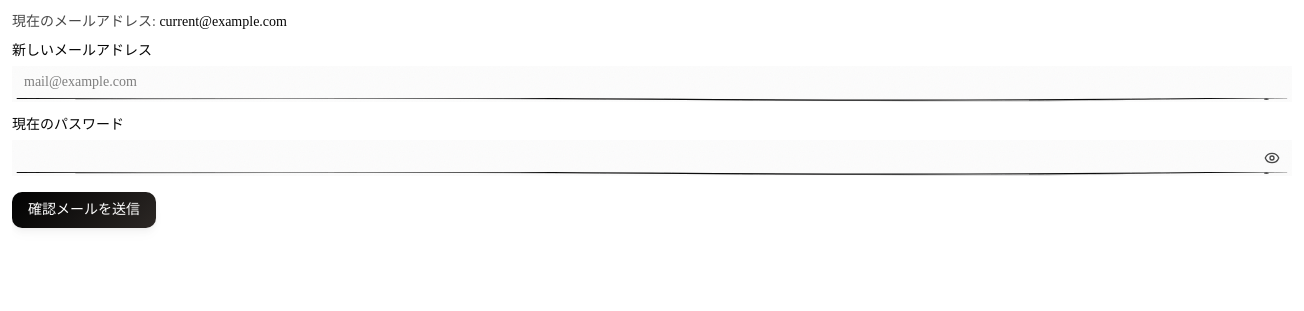
Test: EmailChangeForm › 送信処理 › 成功時は汎用メッセージのみ表示しフォームをリセットする（列挙攻撃対策）
Type "new@example.com" into the field labelled "新しいメールアドレス" at (652, 84), box [12,66,1292,102]
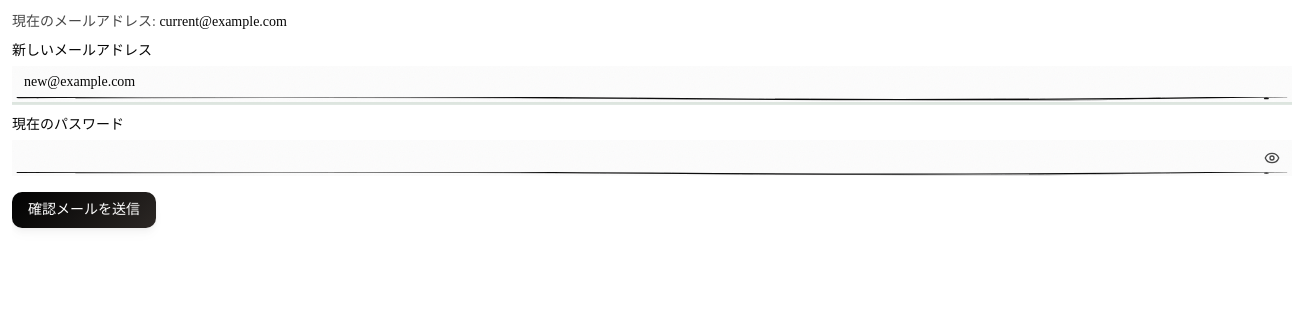
Type "currentPass1" into the password field labelled "現在のパスワード" at (652, 158), box [12,140,1292,176]
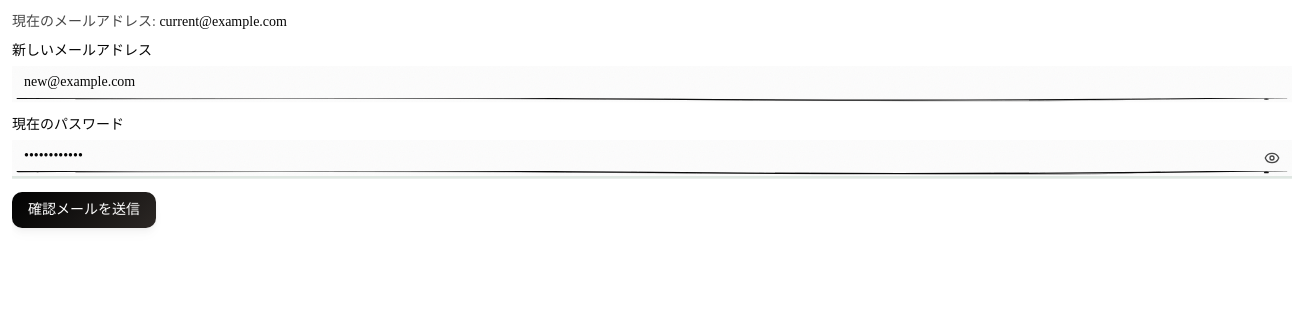
Click the button "確認メールを送信" at (84, 210), box [12,192,156,228]
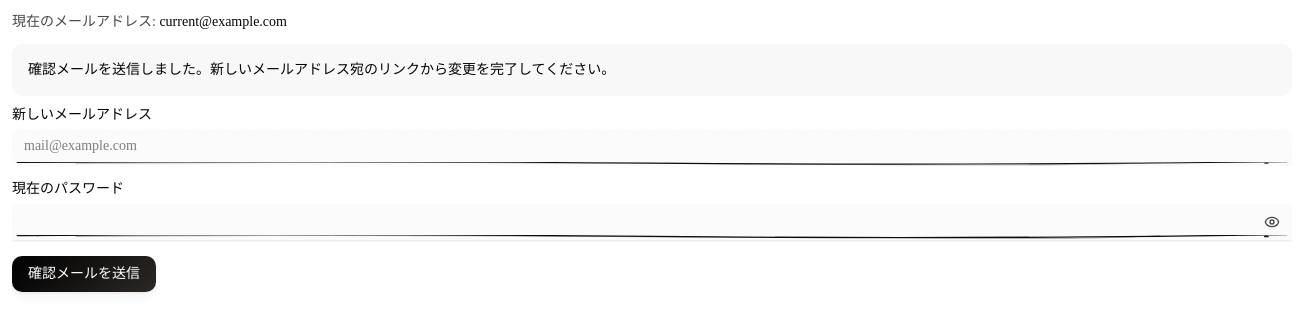
Check: the text "確認メールを送信しました。新しいメールアドレス宛のリンクから変更を完了してください。" is shown, box [12,44,1292,96]
Check: the field labelled "新しいメールアドレス" is empty, box [12,130,1292,166]
Check: the password field labelled "現在のパスワード" is empty, box [12,204,1292,240]
